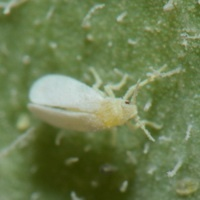insect: (28, 68, 180, 140)
